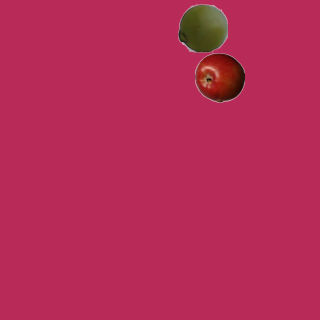Apple Braeburn: (194, 52, 244, 102)
Grape White 4: (177, 2, 227, 52)
